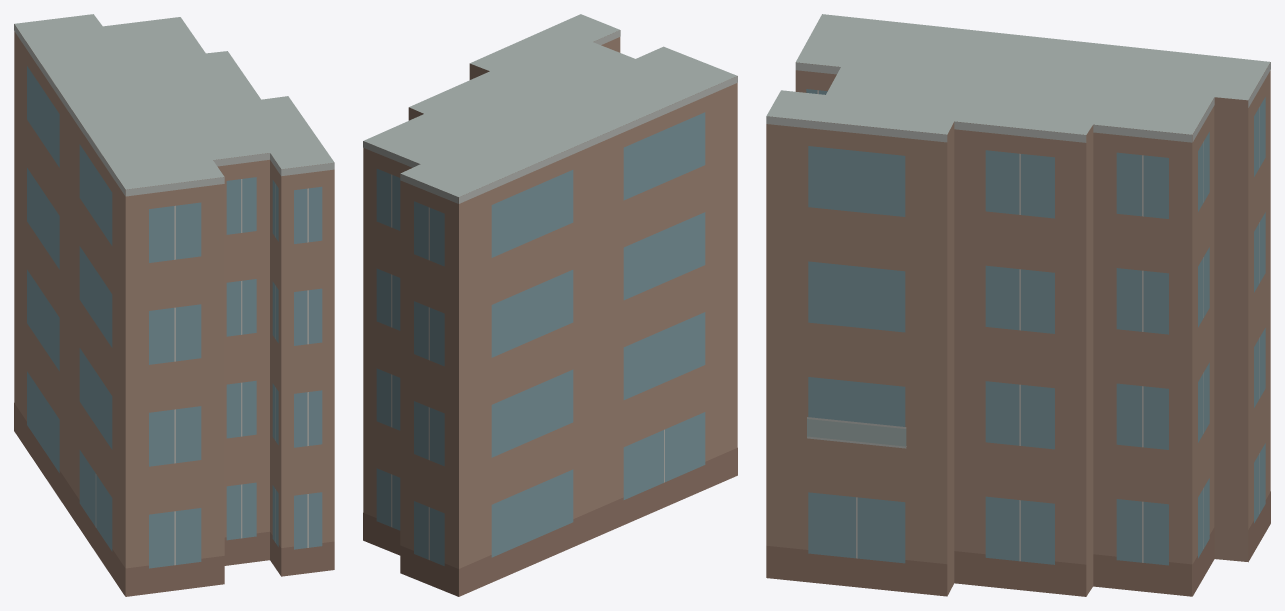
File: survey-upis-32701620.glb
3 renders of one model, left to right at view 1: azimuth 30°, elevation 25°; view 2: azimuth 150°, elevation 25°; view 3: azimuth 270°, elevation 25°, orthographic. The views are drawn at different scales.
Visible parts, largest first — view 1: survey-upis-32701620.tmp; view 2: survey-upis-32701620.tmp; view 3: survey-upis-32701620.tmp.
Part boxes in pixels (box(x1,y1,x2,y2)): survey-upis-32701620.tmp: box(14, 14, 334, 596); survey-upis-32701620.tmp: box(363, 14, 737, 596); survey-upis-32701620.tmp: box(766, 14, 1270, 596).
Size of the model in its own units: 8.05 by 14.3 by 14.16.
